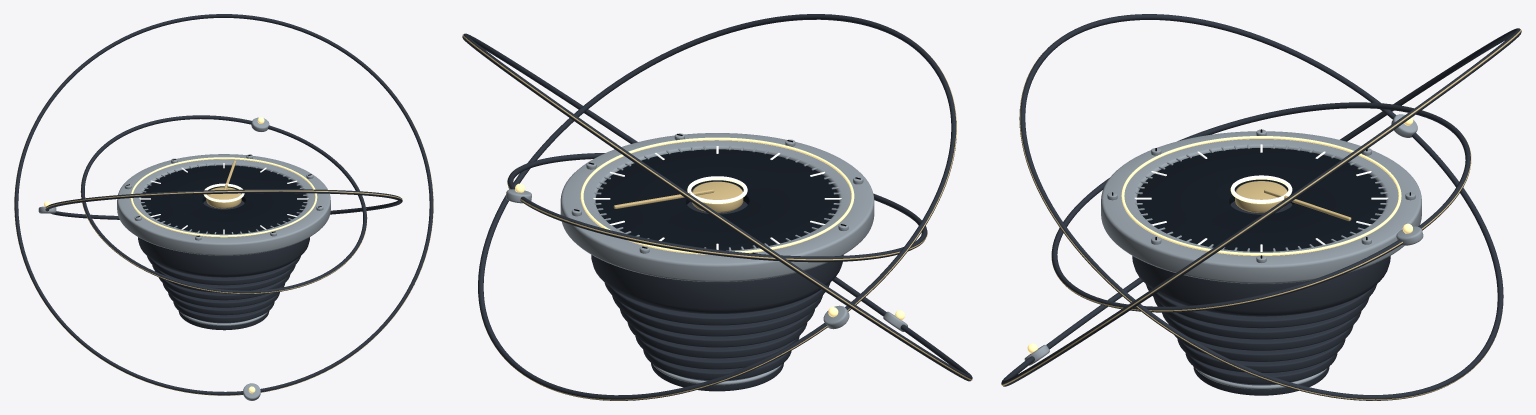
The model's file is finance.glb.
The picture shows the model from 3 angles, left to right: view 1: azimuth 30°, elevation 25°; view 2: azimuth 150°, elevation 25°; view 3: azimuth 270°, elevation 25°; orthographic projection. The views are drawn at different scales.
Parts seen in each view (by area): view 1: pbr_static_steel, dial_face, gimbal_rim_2, pbr_static_graphite, solid_body, gimbal_rim_0, gimbal_rim_1, index_lume, gimbal_edge_2, gimbal_edge_1, emit_core, gimbal_edge_0; view 2: pbr_static_steel, dial_face, pbr_static_graphite, gimbal_rim_1, solid_body, gimbal_rim_2, gimbal_rim_0, index_lume, gimbal_edge_2, gimbal_edge_1, emit_core, gimbal_edge_0 (+1 smaller); view 3: pbr_static_steel, dial_face, pbr_static_graphite, gimbal_rim_1, solid_body, gimbal_rim_2, gimbal_rim_0, index_lume, gimbal_edge_2, gimbal_edge_1, emit_core, gimbal_edge_0 (+1 smaller).
Part boxes in pixels (x1,y1,x2,y2): pbr_static_steel: [117, 154, 330, 325]; dial_face: [141, 165, 306, 234]; gimbal_rim_2: [14, 14, 433, 395]; pbr_static_graphite: [147, 256, 300, 330]; solid_body: [138, 201, 309, 277]; gimbal_rim_0: [81, 115, 366, 294]; gimbal_rim_1: [45, 189, 402, 219]; index_lume: [130, 157, 317, 237]; gimbal_edge_2: [14, 39, 433, 395]; gimbal_edge_1: [45, 190, 402, 208]; emit_core: [206, 187, 241, 208]; gimbal_edge_0: [80, 163, 367, 293]; pbr_static_steel: [560, 133, 874, 385]; dial_face: [595, 149, 839, 250]; pbr_static_graphite: [604, 282, 830, 391]; gimbal_rim_1: [478, 14, 956, 400]; solid_body: [591, 201, 843, 313]; gimbal_rim_2: [462, 33, 972, 381]; gimbal_rim_0: [507, 153, 927, 262]; index_lume: [580, 137, 854, 254]; gimbal_edge_2: [462, 35, 972, 380]; gimbal_edge_1: [478, 39, 956, 400]; emit_core: [692, 181, 743, 212]; gimbal_edge_0: [507, 178, 927, 260]; pbr_static_steel: [1101, 129, 1421, 389]; dial_face: [1136, 148, 1386, 251]; pbr_static_graphite: [1146, 284, 1376, 395]; gimbal_rim_1: [1019, 14, 1503, 400]; solid_body: [1132, 201, 1390, 316]; gimbal_rim_2: [1001, 28, 1521, 386]; gimbal_rim_0: [1051, 102, 1470, 312]; index_lume: [1121, 136, 1401, 255]; gimbal_edge_2: [1001, 29, 1521, 385]; gimbal_edge_1: [1019, 38, 1502, 400]; emit_core: [1235, 181, 1287, 212]; gimbal_edge_0: [1051, 134, 1471, 311].
Bounding box in the file's own units: 5.16 × 3.62 × 4.51.
